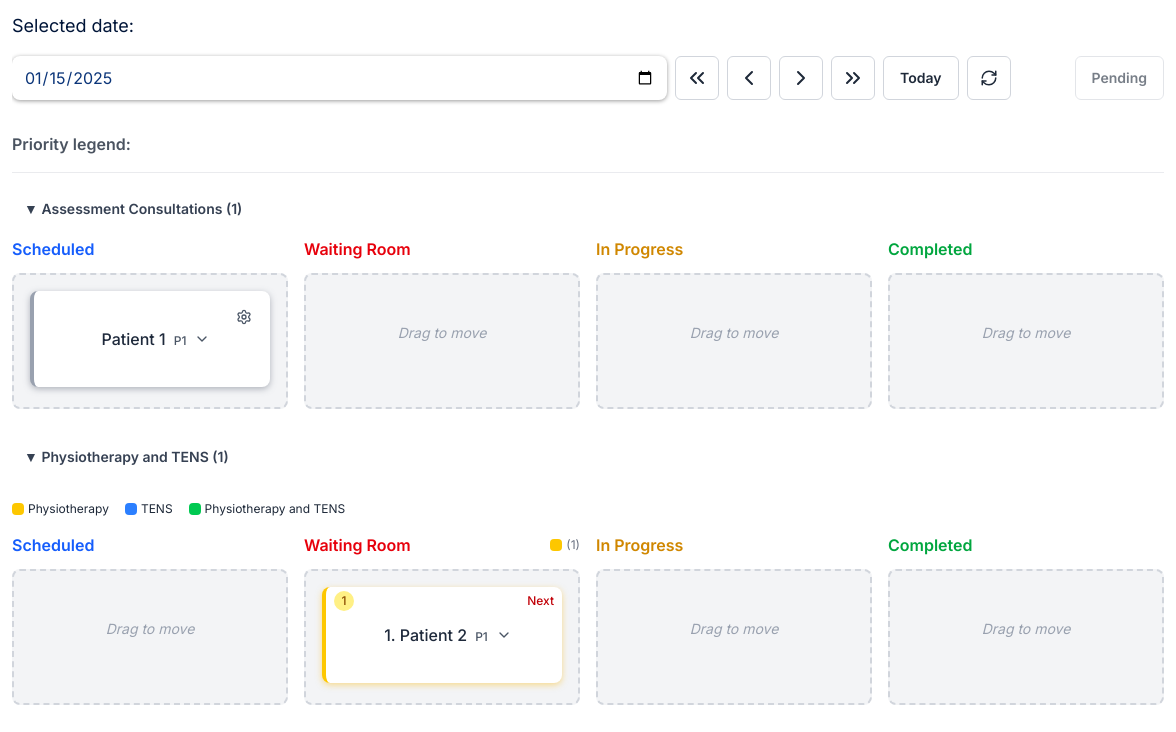
Test: AppointmentsBoard Integration Tests › Real Component Integration › should handle section collapse with real functionality
The width and height of the screenshot is (1176, 732).
Click the button "▼ Assessment Consultations (1)".
click(136, 208)  # box x1=12 y1=189 x2=1164 y2=229
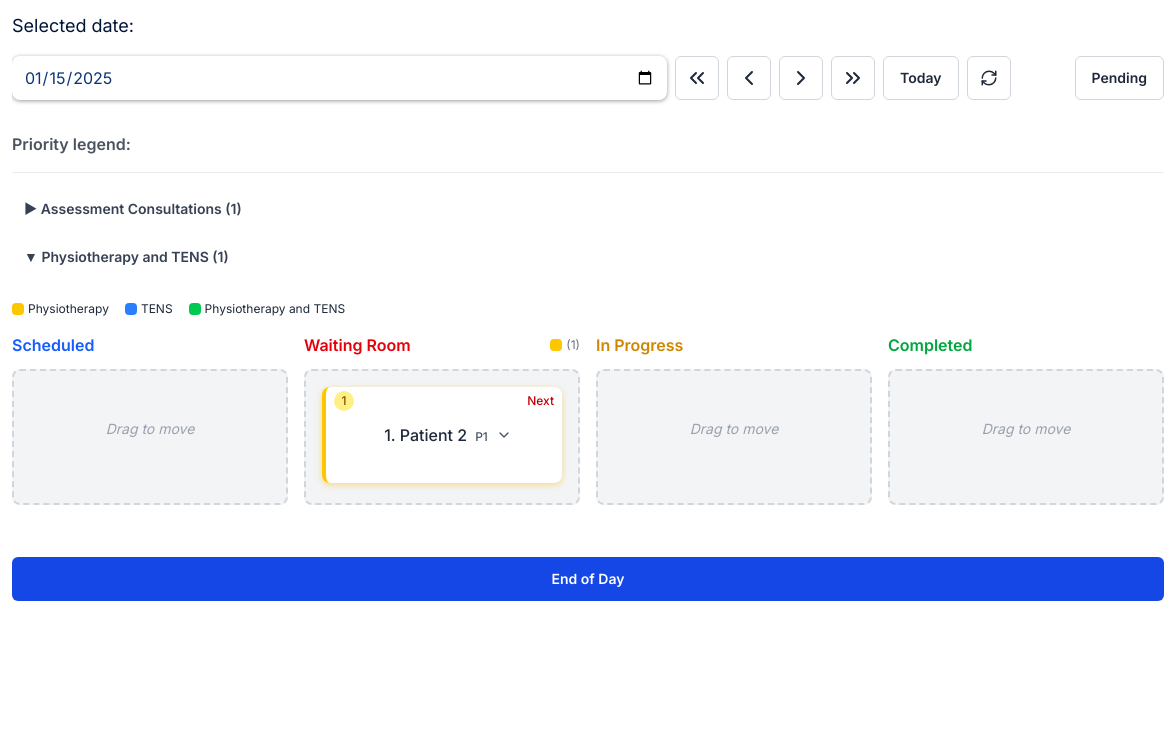
Expected: the button "▶ Assessment Consultations (1)" is shown, x1=12 y1=189 x2=1164 y2=229
